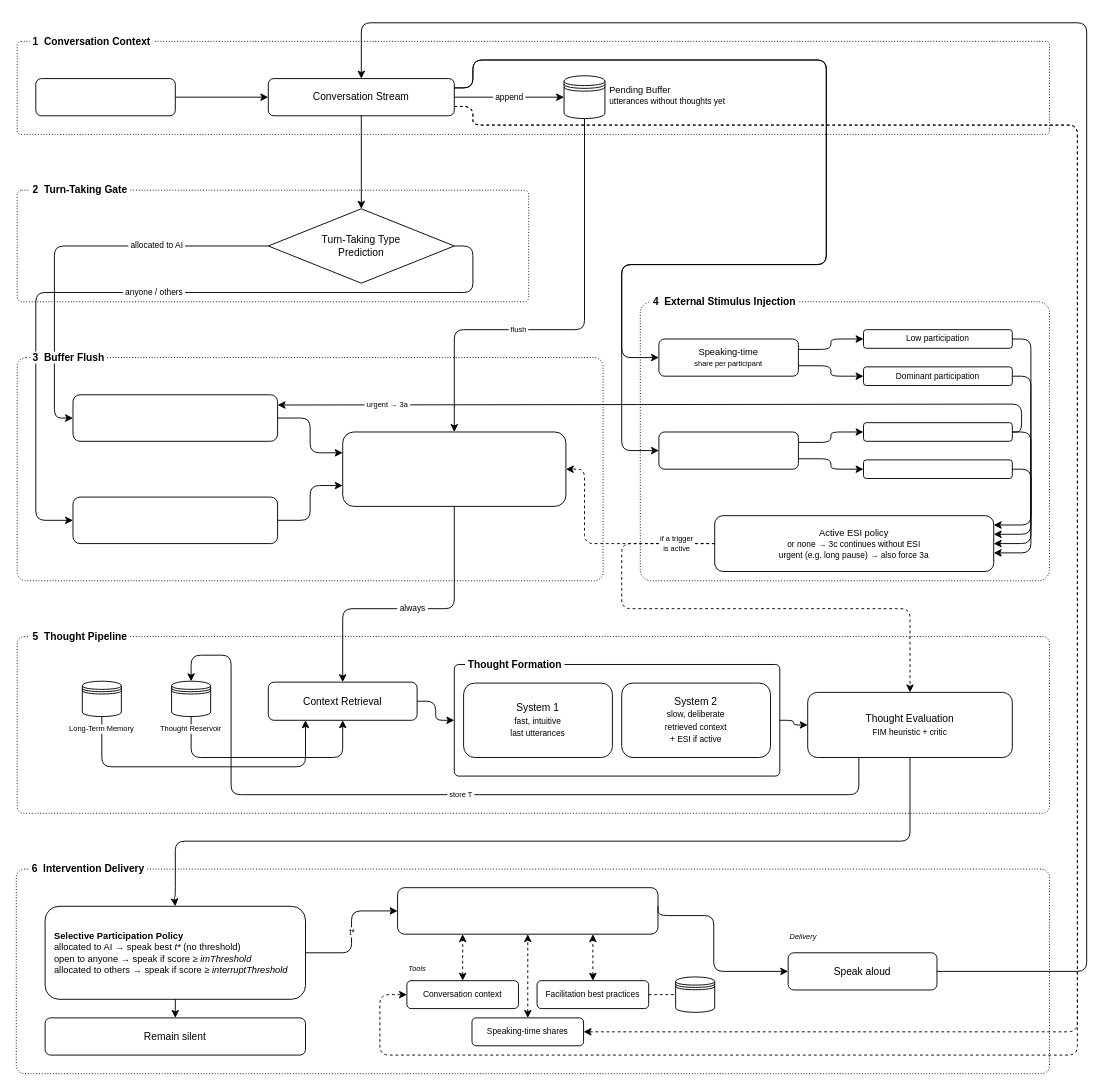
Image size: 1110x1090. Some labels were removed from this diagram. The box of each missing label's shape, as (x1, y1, x2, y2) in pixels:
3a Flush now allocated to AI · or urgent ESI: (72, 394, 278, 441)
3b Flush after X s anyone / others · cost saving: (72, 496, 278, 544)
3c Assemble flush pending set + ESI if a trigger is active: (342, 431, 566, 506)
End phase: (863, 459, 1012, 478)
Long pause: (863, 422, 1012, 441)
Participants: (35, 78, 175, 116)
Time silence · remaining: (658, 431, 798, 469)
Utterance Formation formulates selected thought t* into a facilitation act: (397, 887, 658, 934)
